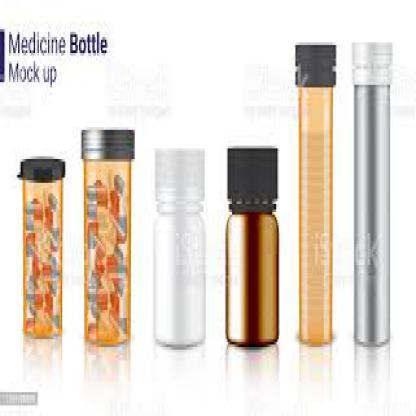jar: (78, 129, 135, 345), (226, 148, 279, 346), (16, 158, 65, 339)
